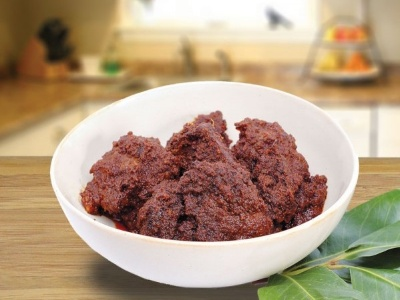rendang: (95, 107, 316, 233)
